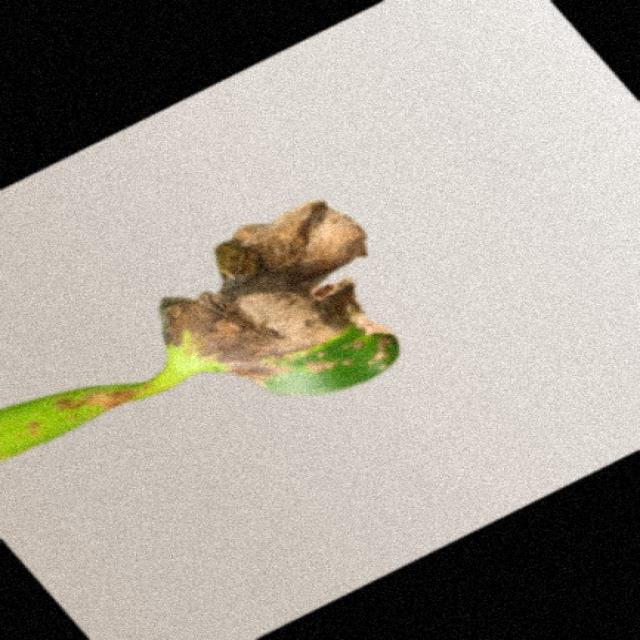daun berpenyakit karat: (0, 201, 400, 458)
